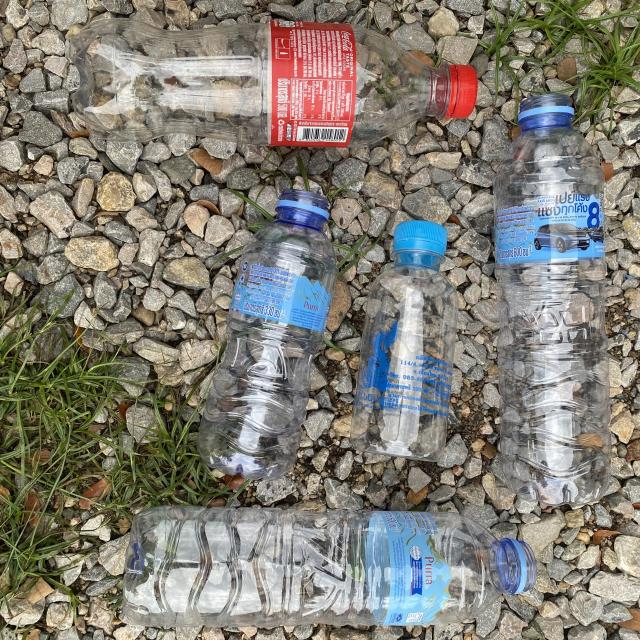plastik: (69, 19, 478, 146), (122, 506, 536, 628), (494, 94, 611, 506), (198, 189, 338, 480), (351, 221, 458, 461)
